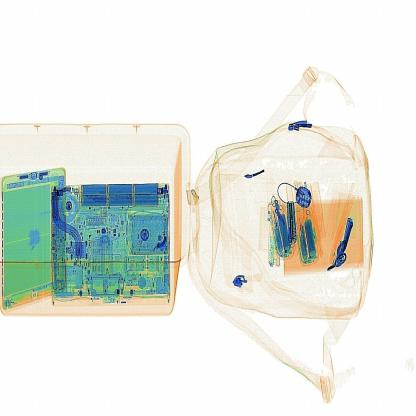scissors: (281, 197, 309, 250)
